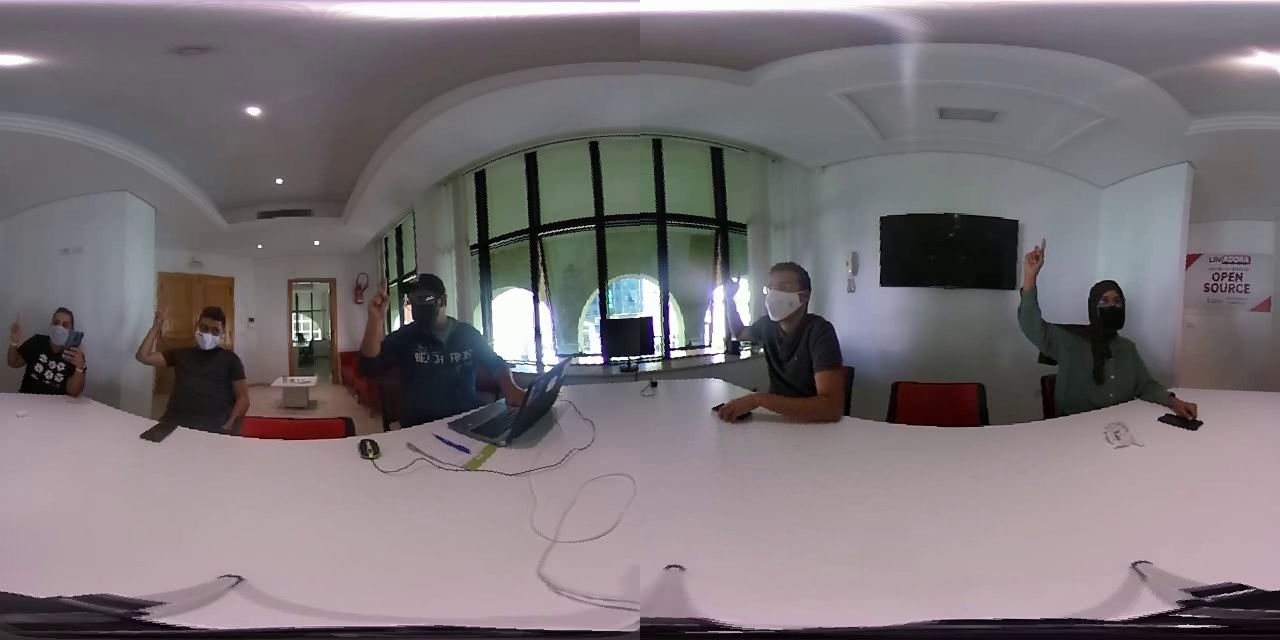person: (1003, 223, 1170, 429), (705, 250, 864, 440), (348, 253, 495, 432), (114, 285, 265, 446), (1, 289, 100, 412)
speaking: (1018, 230, 1065, 341), (353, 270, 393, 375), (133, 302, 178, 374), (715, 263, 752, 348), (4, 305, 33, 367)
